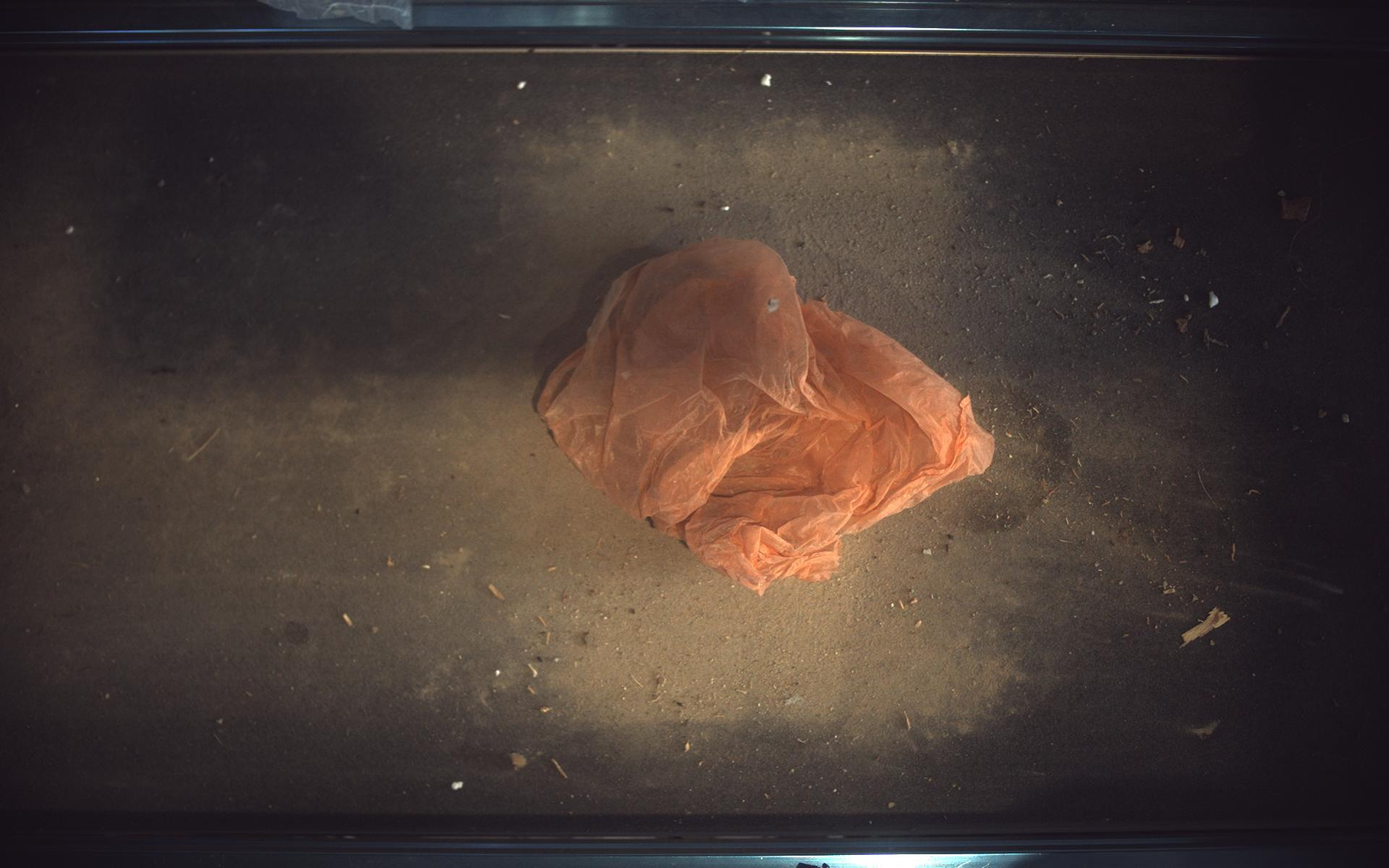general_w: (538, 237, 996, 595)
